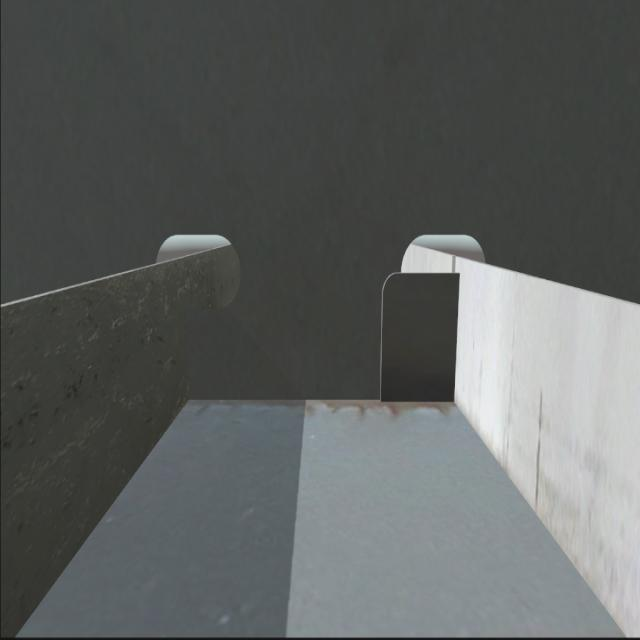fillet_yong_jeop_jang: (184, 388, 458, 410)
longi_yong_jeop_jang: (446, 268, 464, 411), (178, 293, 196, 409)
plate_CP05: (380, 269, 459, 402)
